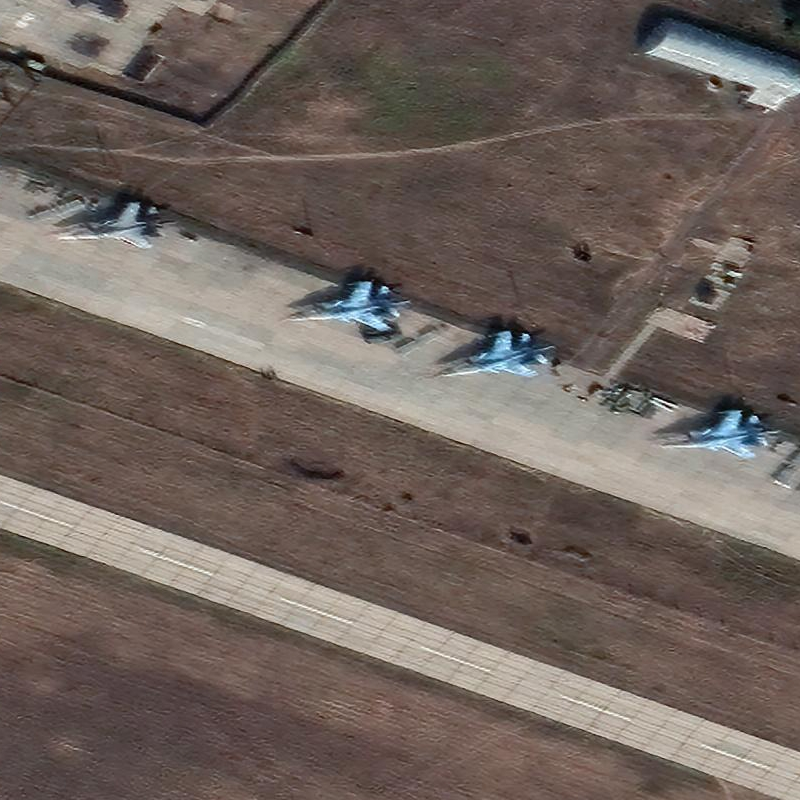A19: (284, 277, 413, 335), (656, 407, 784, 463), (52, 199, 179, 251), (435, 328, 556, 382)
